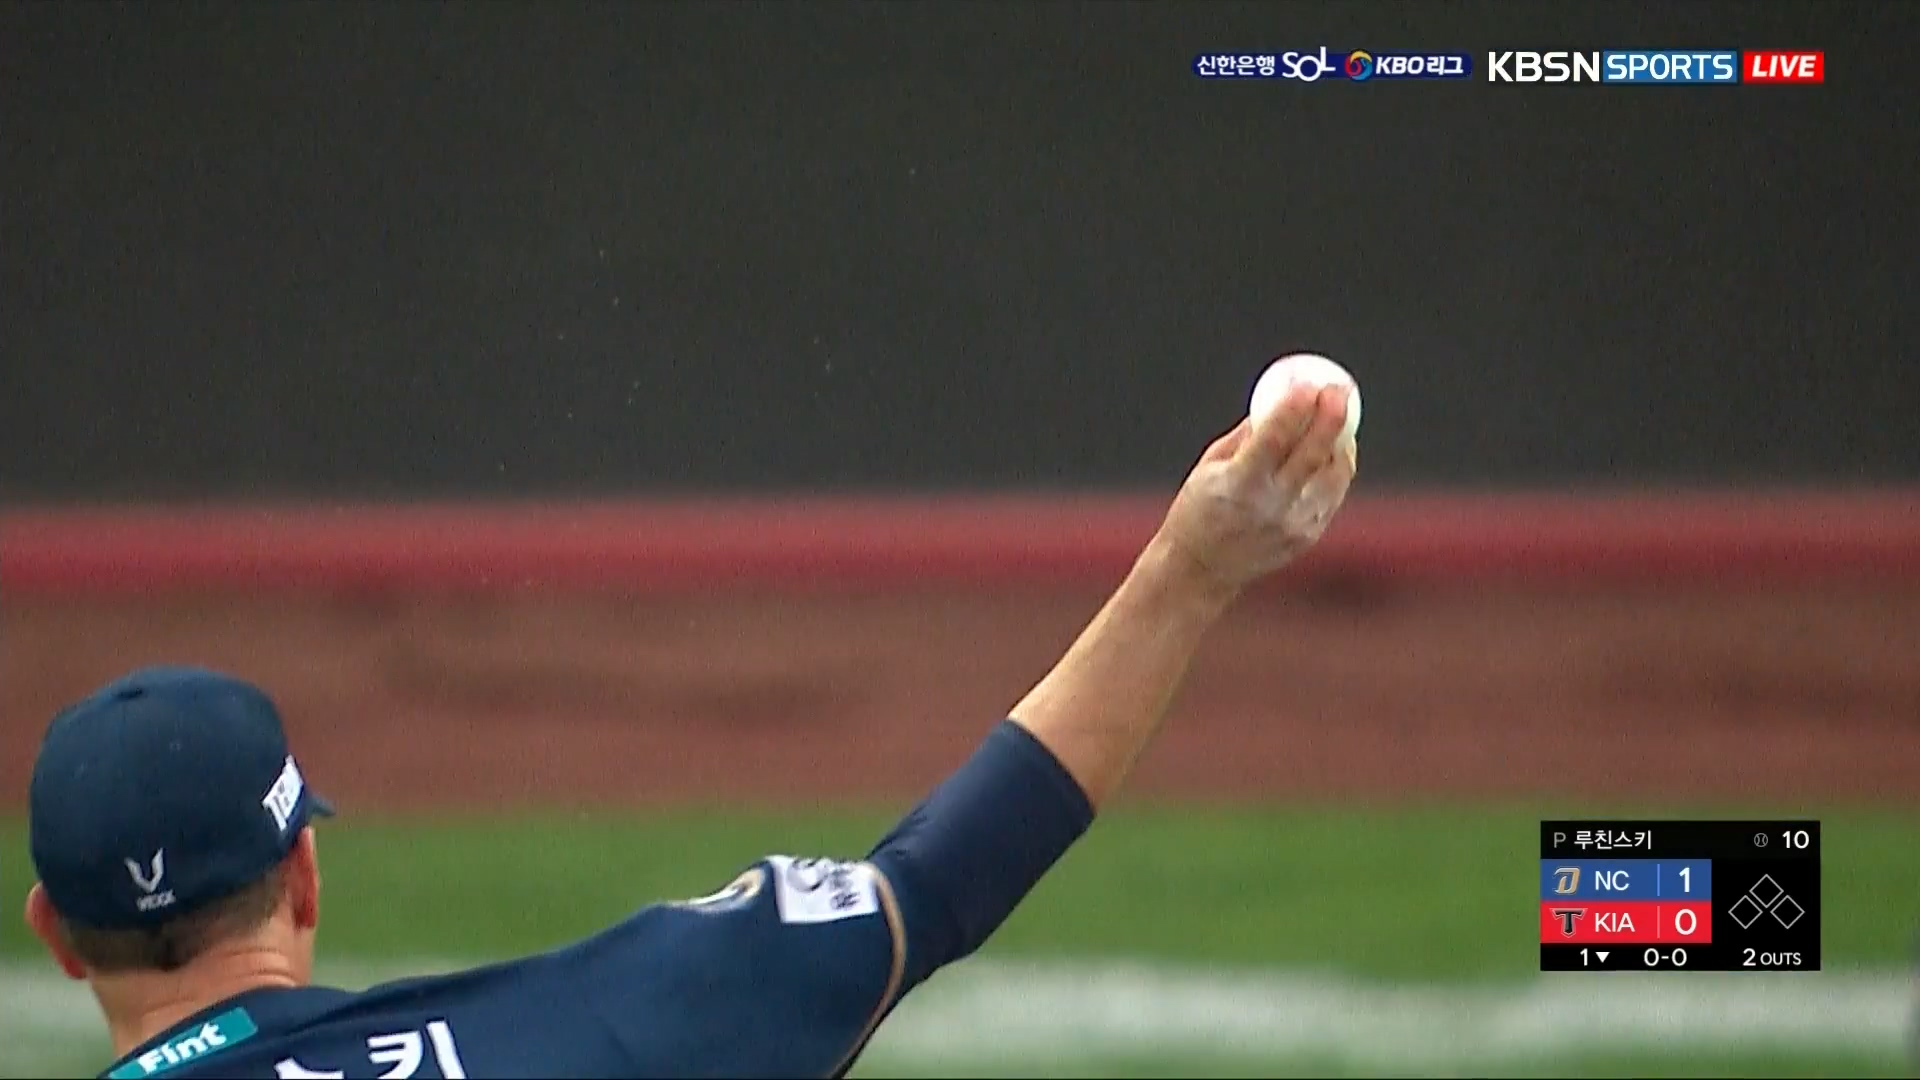zoomin_hand: (967, 348, 1389, 957)
